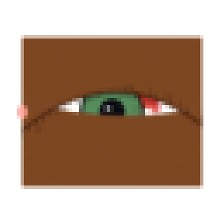hemorrhage_spot: (93, 63, 175, 128)
